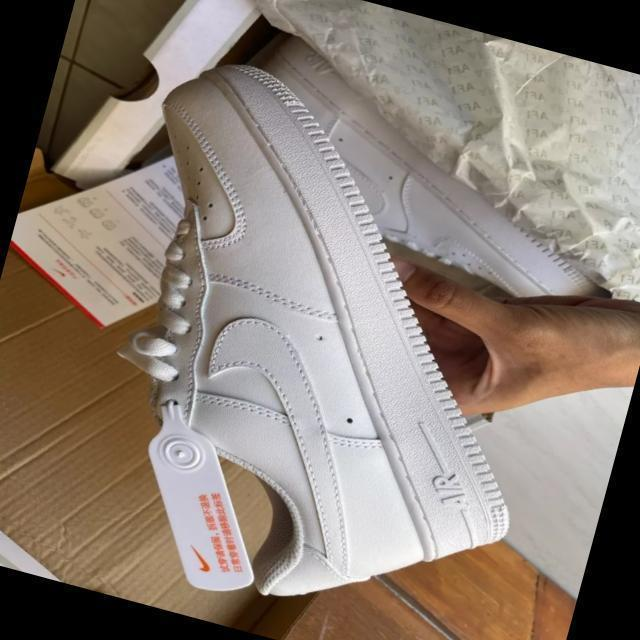nike original air force: (43, 46, 612, 640)
